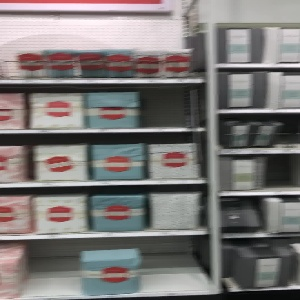void: (143, 232, 210, 291), (20, 241, 79, 295), (142, 85, 202, 130), (264, 151, 300, 190)
